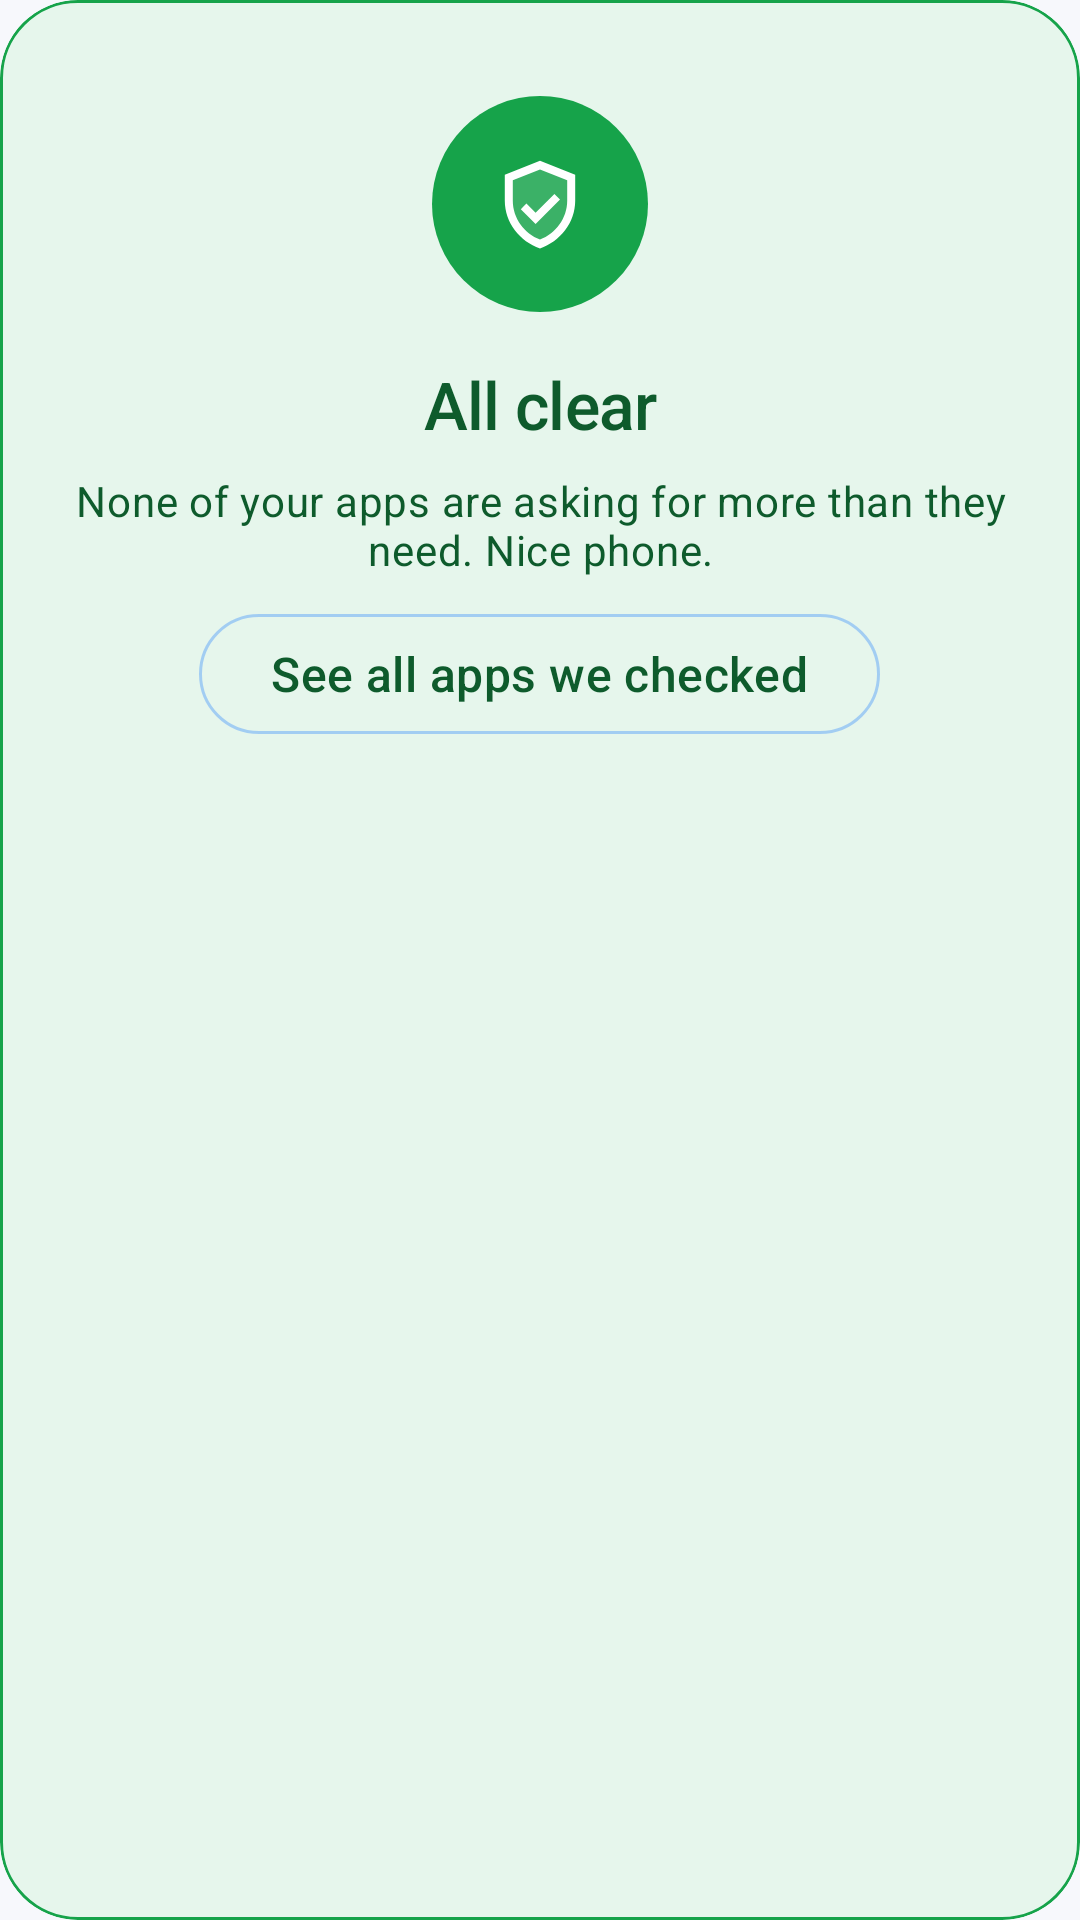

Where to tap for icons on this 1080*1920 app screen, as (x=x, y=y):
shield check: (x=540, y=205)
